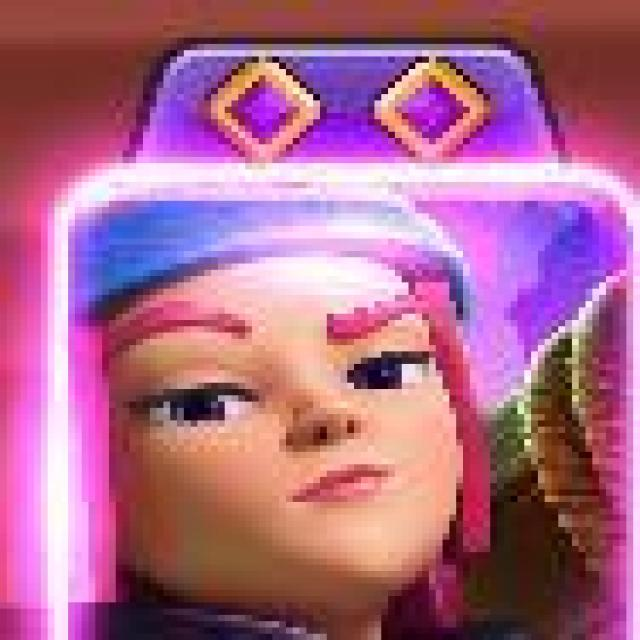Evolved_Firecracker: (48, 163, 640, 640)
